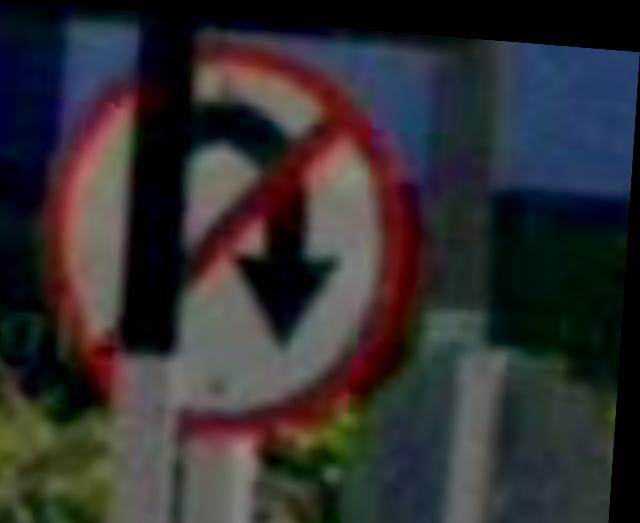not_u_turn_right: (58, 24, 447, 450)
